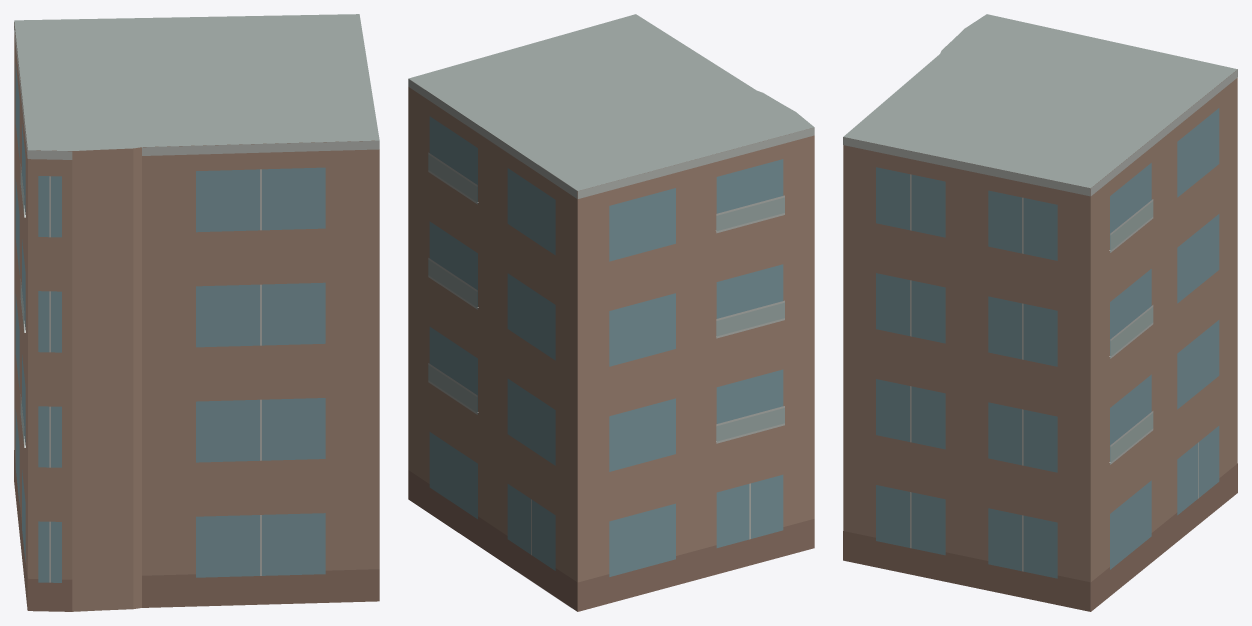
Rendered from survey-upis-32723718.glb.
3 views of the same model, side by side, from view 1: azimuth 30°, elevation 25°; view 2: azimuth 150°, elevation 25°; view 3: azimuth 270°, elevation 25° (orthographic). The views are drawn at different scales.
Parts seen in each view (by area): view 1: survey-upis-32723718.tmp; view 2: survey-upis-32723718.tmp; view 3: survey-upis-32723718.tmp.
Boxes of the visible parts, x1,y1,x2,y2 form: survey-upis-32723718.tmp: (14,14,379,611); survey-upis-32723718.tmp: (408,14,814,611); survey-upis-32723718.tmp: (843,14,1237,611).
Size of the model in its own units: 11.12 by 12.6 by 10.65.
